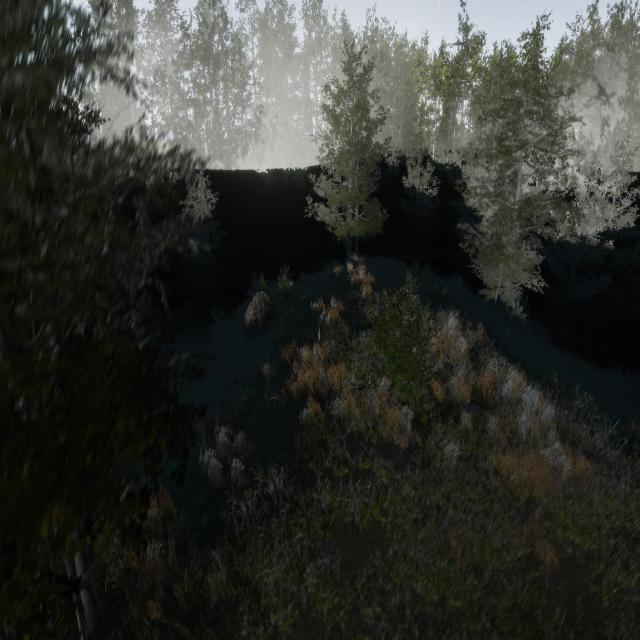Human: (314, 301, 332, 341)
